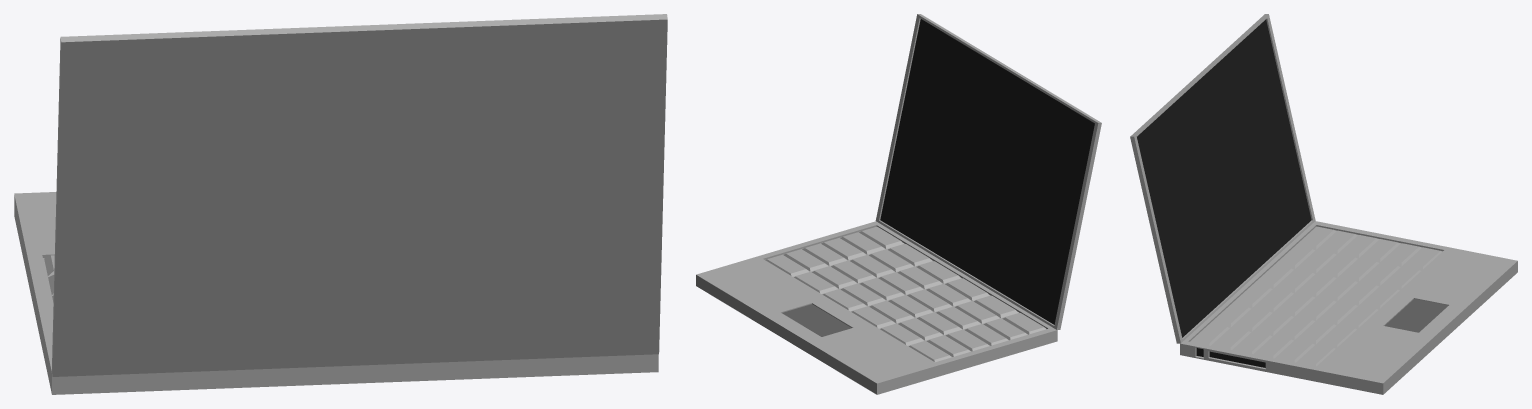
The model's file is Laptop.fbx.
3 views of the same model, side by side, from view 1: azimuth 30°, elevation 25°; view 2: azimuth 150°, elevation 25°; view 3: azimuth 270°, elevation 25° (orthographic). The views are drawn at different scales.
Visible parts, largest first — view 1: Laptop; view 2: Laptop; view 3: Laptop.
Part boxes in pixels (x1,y1,x2,y2): Laptop: (14,14,667,394); Laptop: (696,14,1101,394); Laptop: (1130,14,1517,394).
Bounding box in the file's own units: 1668 × 945 × 1587.
Materials: 1 (1 with a texture image).
